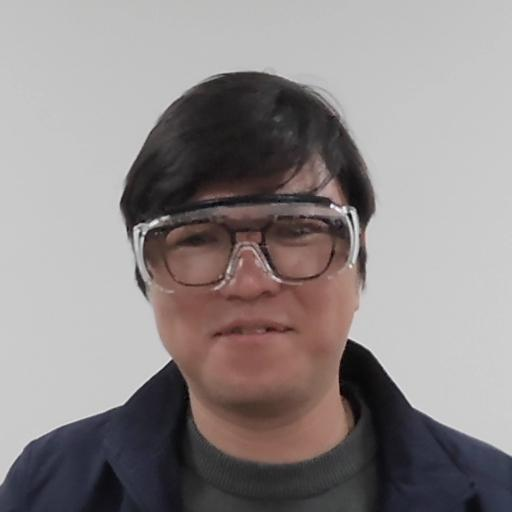glasses: (106, 60, 385, 420)
